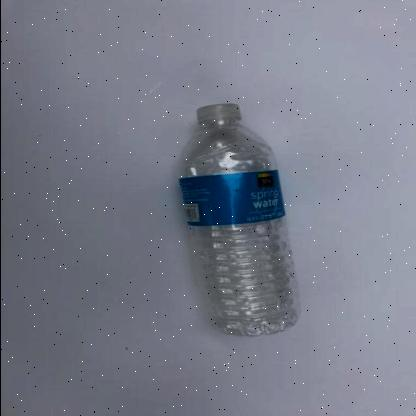Plastic Bottle: (179, 104, 299, 336)
